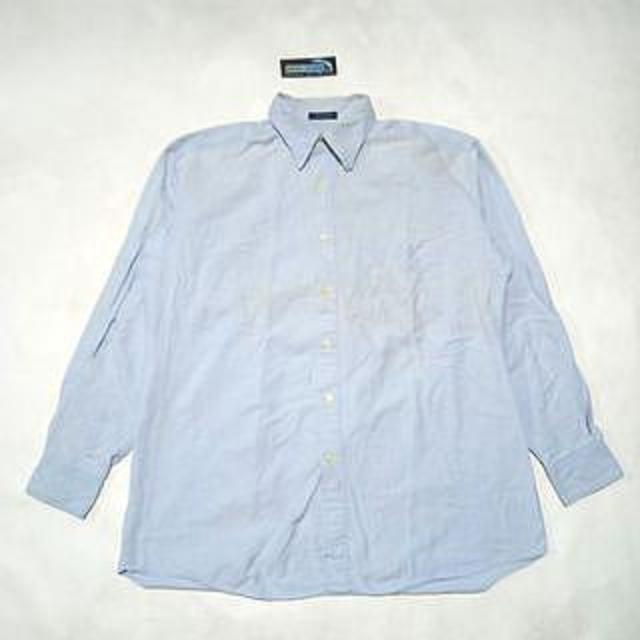SHIRT: (23, 86, 633, 613)
